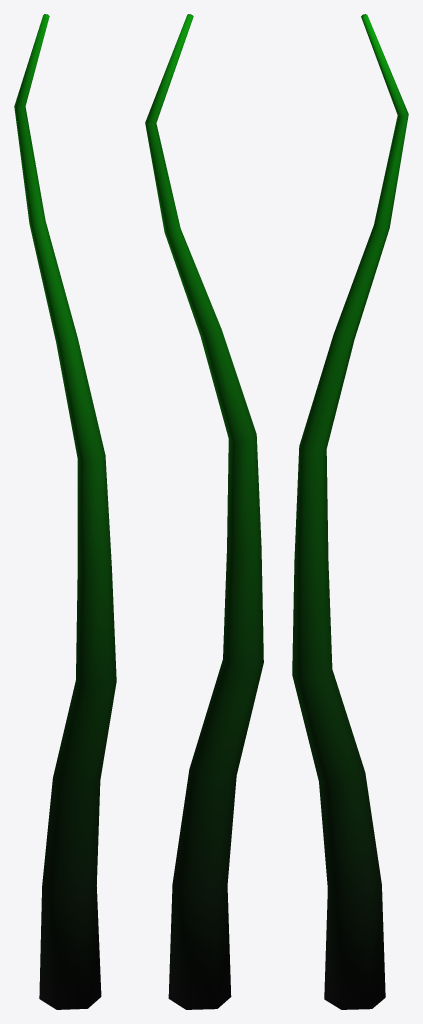
The model's file is medium_birch_trunk.obj.
3 renders of one model, left to right at view 1: azimuth 90°, elevation 25°; view 2: azimuth 150°, elevation 25°; view 3: azimuth 330°, elevation 25°, orthographic.
Parts seen in each view (by area): view 1: MediumBirchTrunk; view 2: MediumBirchTrunk; view 3: MediumBirchTrunk.
Boxes of the visible parts, x1,y1,x2,y2 form: MediumBirchTrunk: (14,14,116,1009); MediumBirchTrunk: (145,14,263,1009); MediumBirchTrunk: (292,14,408,1009).
Size of the model in its own units: 1.59 by 20.27 by 1.91.
